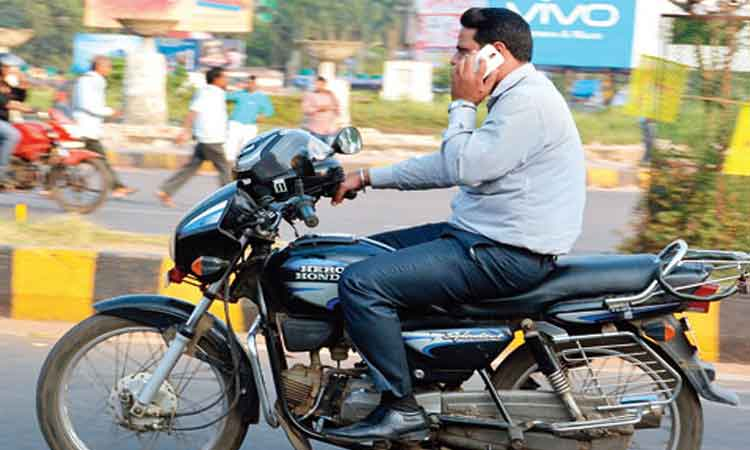dieu khien xe may: (171, 6, 568, 393)
su dung dien thoai: (446, 6, 533, 115)
